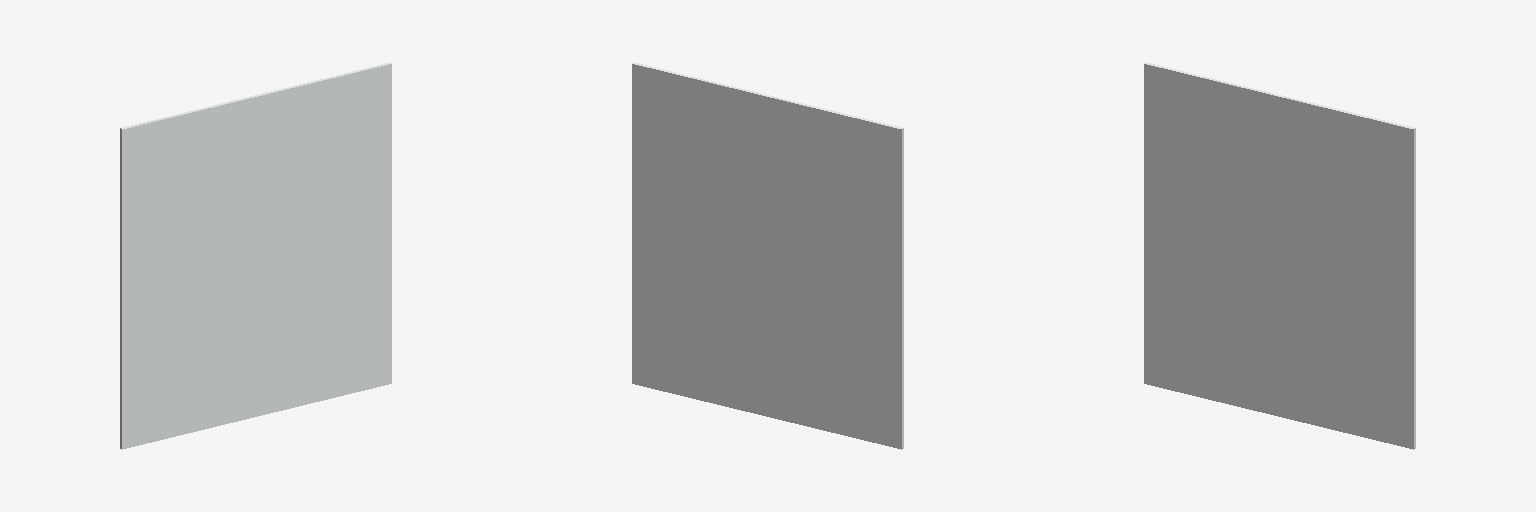
The picture shows the model from 3 angles: view 1: azimuth 30°, elevation 25°; view 2: azimuth 150°, elevation 25°; view 3: azimuth 330°, elevation 25°; orthographic projection.
Parts seen in each view (by area): view 1: VentanaP:polySurface1542polySurface1049; view 2: VentanaP:polySurface1542polySurface1049; view 3: VentanaP:polySurface1542polySurface1049.
Part boxes in pixels (left/top/right/bottom): VentanaP:polySurface1542polySurface1049: left=120, top=62, right=391, bottom=449; VentanaP:polySurface1542polySurface1049: left=632, top=62, right=903, bottom=449; VentanaP:polySurface1542polySurface1049: left=1144, top=62, right=1415, bottom=449.
Size of the model in its own units: 0.7615 by 0.8631 by 0.0096.
Materials: 1 (1 with a texture image).